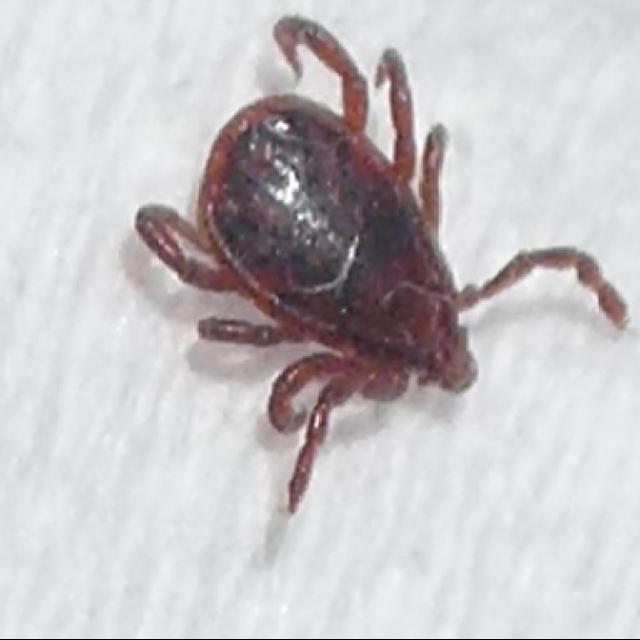Rhipicephalus Sanguineus-M: (134, 18, 628, 516)
